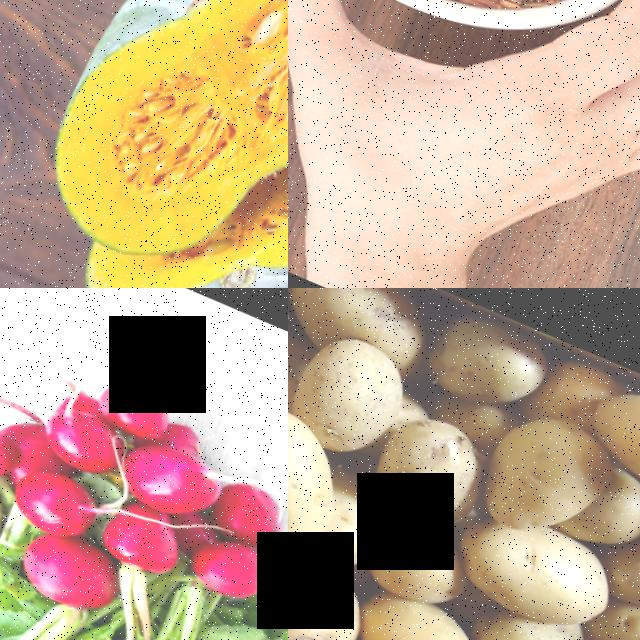potato: (470, 402, 617, 548), (452, 512, 615, 640), (354, 399, 496, 541), (288, 325, 414, 463), (288, 376, 361, 582), (578, 363, 640, 531), (348, 586, 507, 640)
pumpkin: (0, 0, 288, 288)
radishes: (0, 296, 288, 640)
